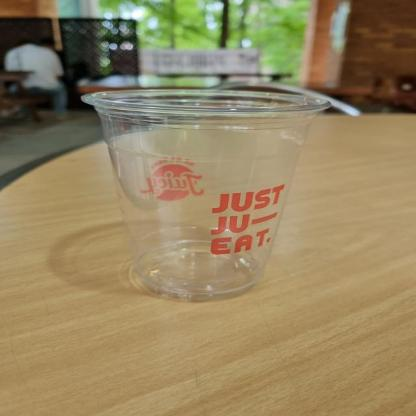Plastic Cup: (72, 82, 336, 306)
